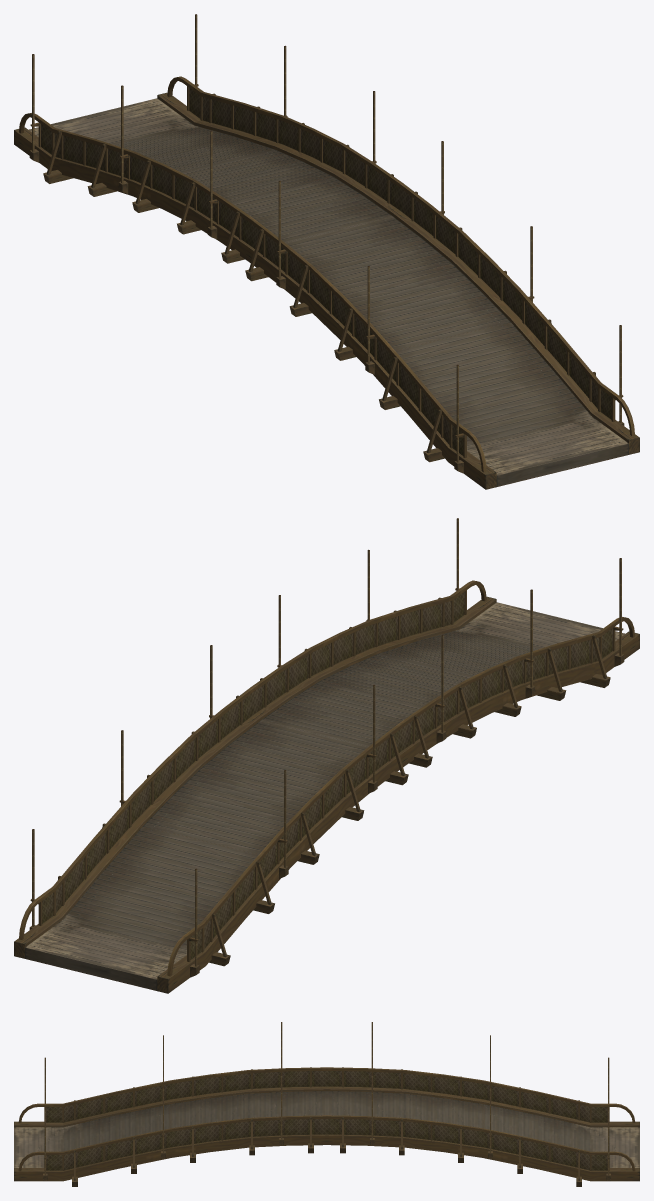
File: bridge_wood.glb
3 renders of one model, top to bottom at view 1: azimuth 30°, elevation 25°; view 2: azimuth 150°, elevation 25°; view 3: azimuth 270°, elevation 25°, orthographic. The views are drawn at different scales.
Visible parts, largest first — view 1: s4studio_mesh_0_0, s4studio_mesh_1_0; view 2: s4studio_mesh_0_0, s4studio_mesh_1_0; view 3: s4studio_mesh_0_0, s4studio_mesh_1_0.
Part boxes in pixels (x1,y1,x2,y2): s4studio_mesh_0_0: (14,14,639,489); s4studio_mesh_1_0: (41,88,611,455); s4studio_mesh_0_0: (14,518,639,993); s4studio_mesh_1_0: (42,592,612,959); s4studio_mesh_0_0: (14,1022,639,1186); s4studio_mesh_1_0: (46,1071,607,1170).
Bounding box in the file's own units: 6 × 5.07 × 26.5.
2 materials, 2 textured.
